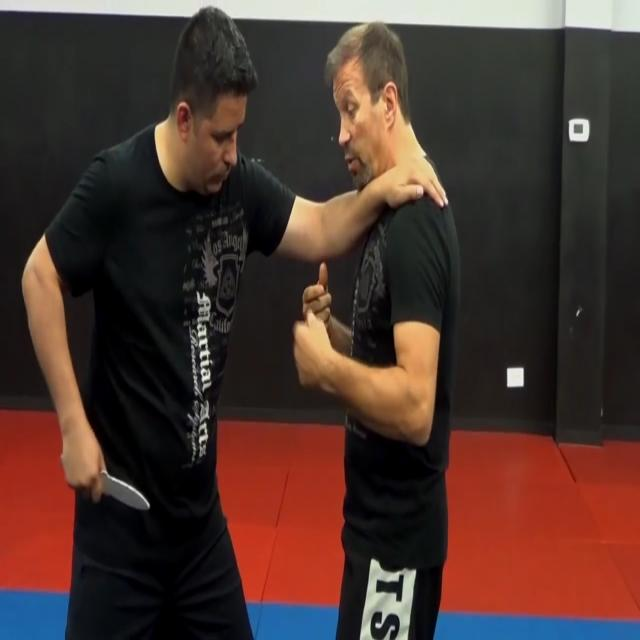knife: (102, 474, 154, 513)
